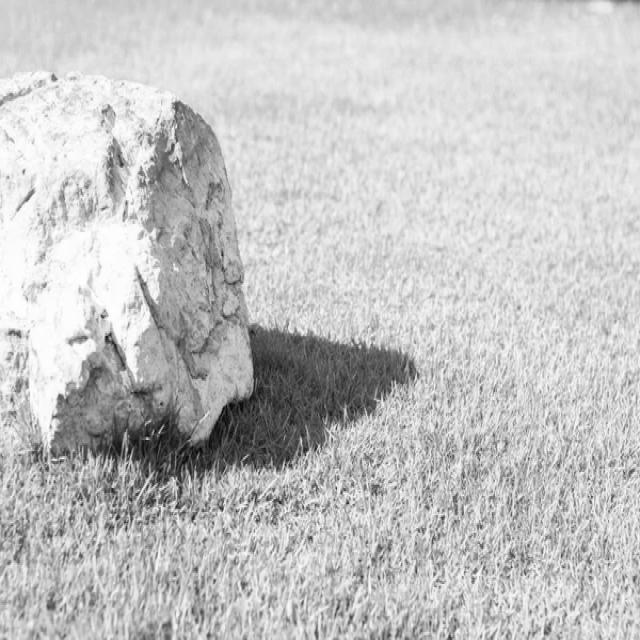Stone: (0, 70, 253, 449)
